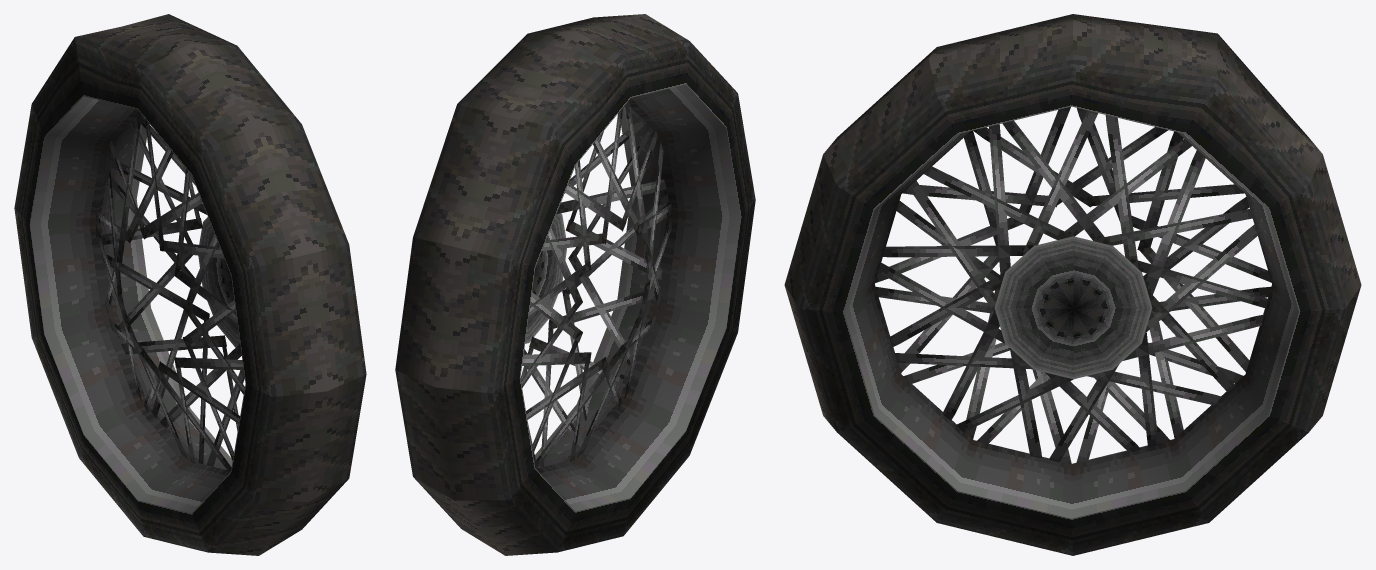
The model's file is SanchezBackWheel.fbx.
The picture shows the model from 3 angles, left to right: view 1: azimuth 30°, elevation 25°; view 2: azimuth 150°, elevation 25°; view 3: azimuth 270°, elevation 25°; orthographic projection. The views are drawn at different scales.
Parts seen in each view (by area): view 1: wheel_rear; view 2: wheel_rear; view 3: wheel_rear.
Boxes of the visible parts, x1,y1,x2,y2 form: wheel_rear: (14,14,366,555); wheel_rear: (395,14,755,555); wheel_rear: (784,14,1361,555).
Bounding box in the file's own units: 14.73 × 65.35 × 65.35.
1 material, 1 textured.
